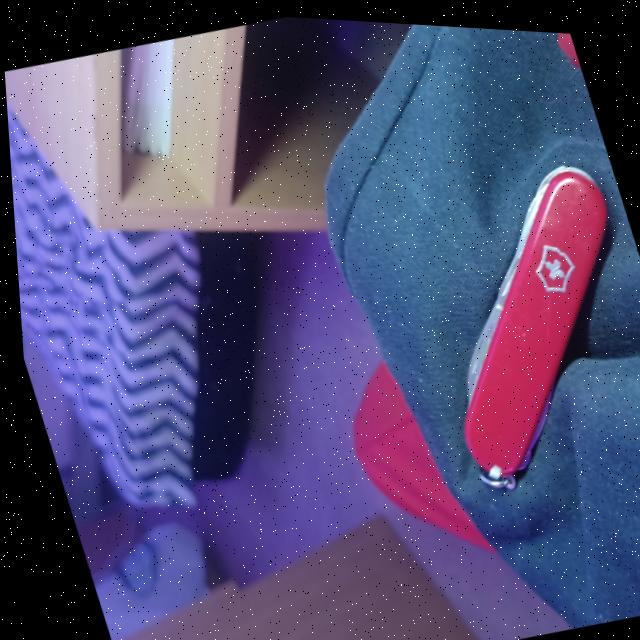knife victorinox: (458, 158, 604, 481)
